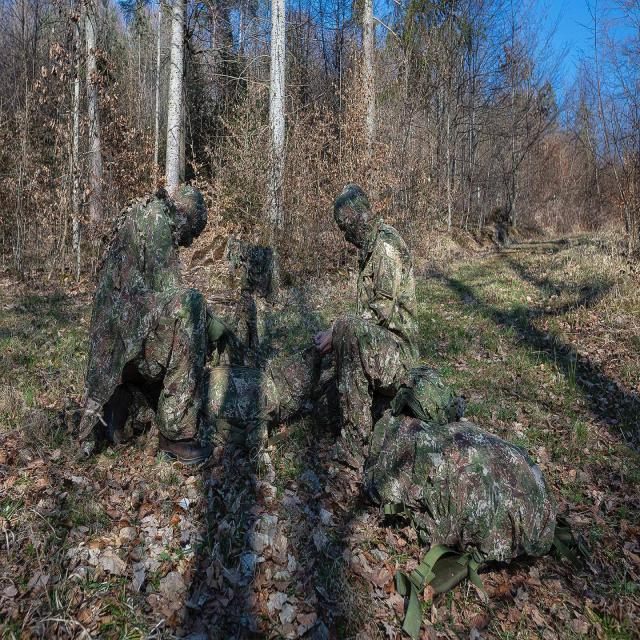Human: (79, 184, 213, 467), (313, 184, 416, 469)
